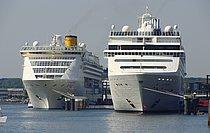Ship: (108, 22, 188, 114), (19, 32, 107, 111)
